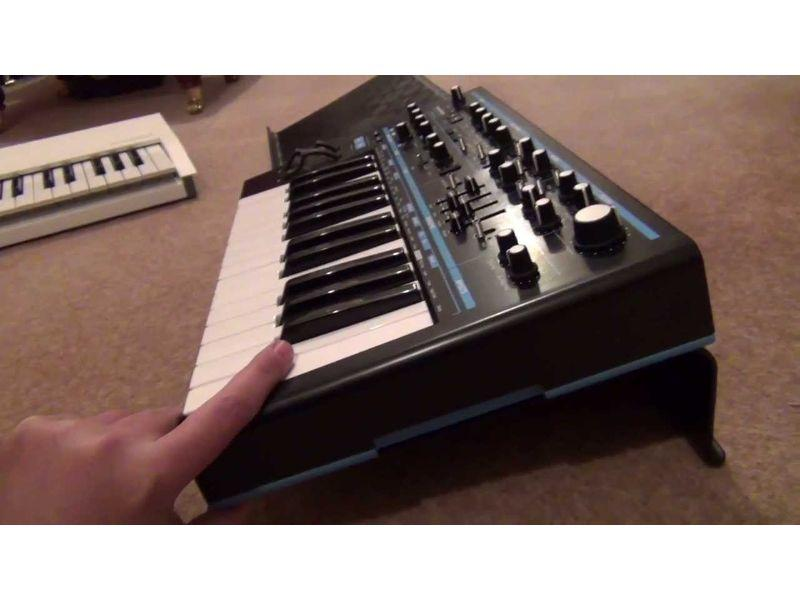synthesizer: (200, 101, 727, 498), (6, 123, 178, 223)
